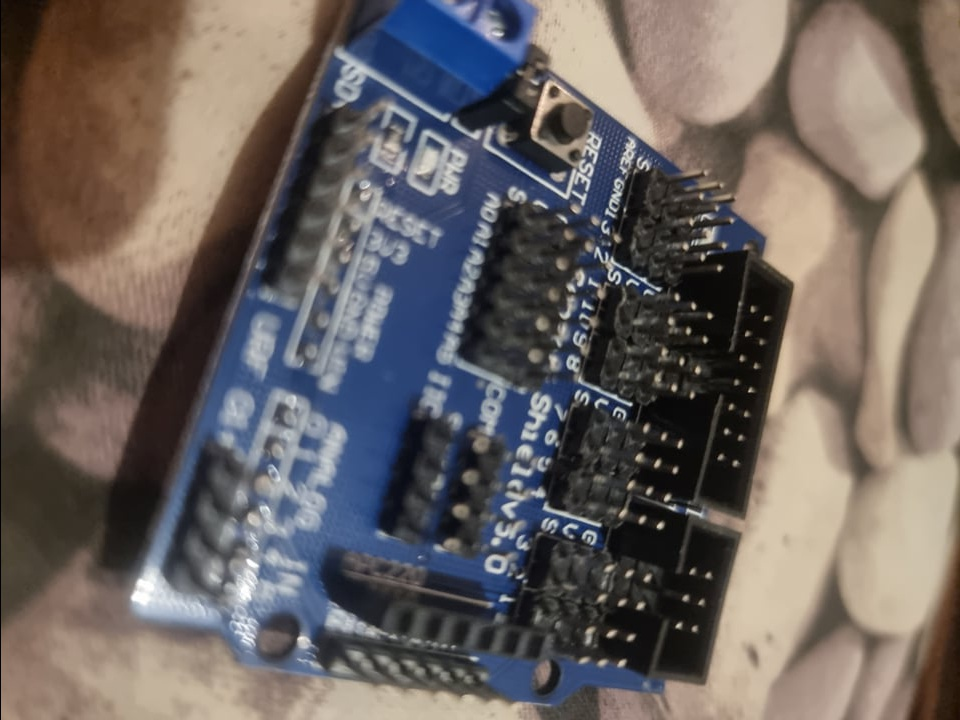5V EXPANSION: (122, 1, 793, 703)
